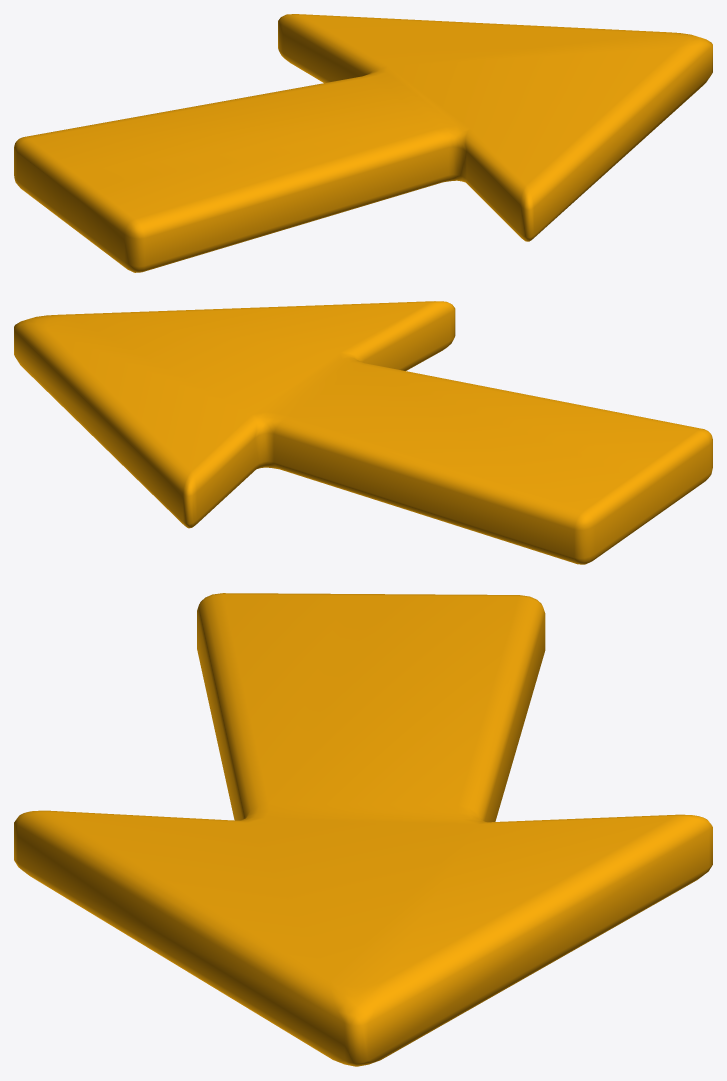
Rendered from arrow_custom.gltf.
The picture shows the model from 3 angles, top to bottom: view 1: azimuth 30°, elevation 25°; view 2: azimuth 150°, elevation 25°; view 3: azimuth 270°, elevation 25°; orthographic projection. The views are drawn at different scales.
Visible parts, largest first — view 1: Arrow; view 2: Arrow; view 3: Arrow.
Part boxes in pixels (<box>): Arrow: <box>14,14,712,272</box>; Arrow: <box>14,301,712,564</box>; Arrow: <box>14,593,712,1066</box>.
Bounding box in the file's own units: 3.01 × 0.2343 × 2.11.
